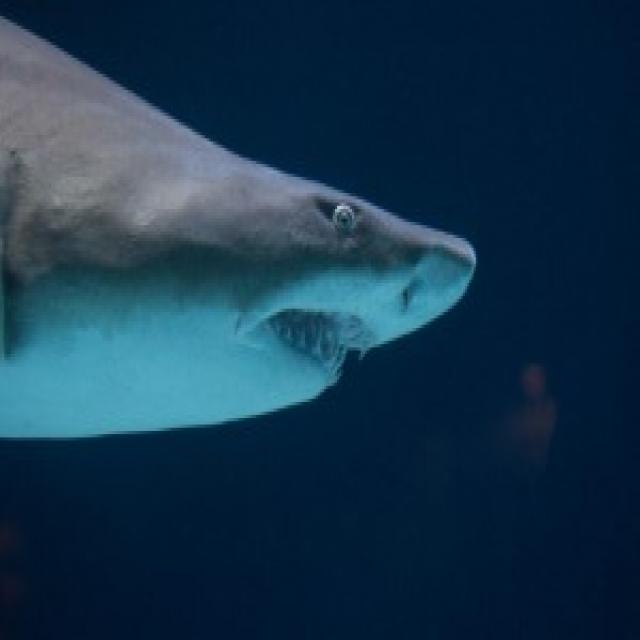Shark: (1, 5, 478, 448)
